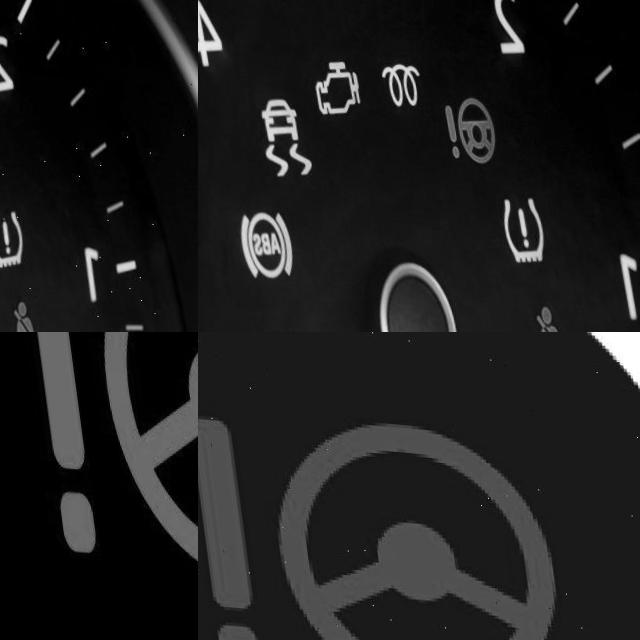Electronic Power Steering: (13, 332, 198, 582), (425, 84, 501, 166), (244, 90, 306, 180)
Electronic Power Steering Warning: (198, 396, 562, 640)
Seat Belt: (0, 291, 35, 332)
